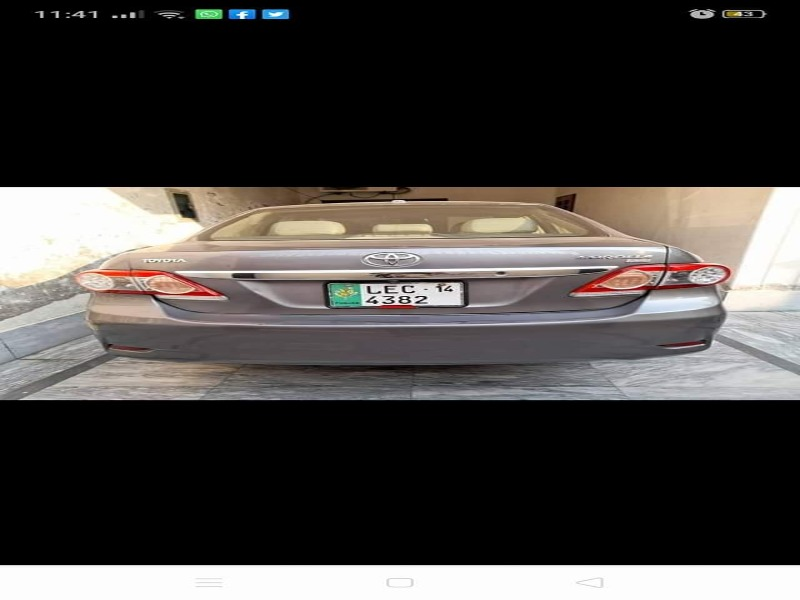License Plate: (322, 274, 469, 311)
